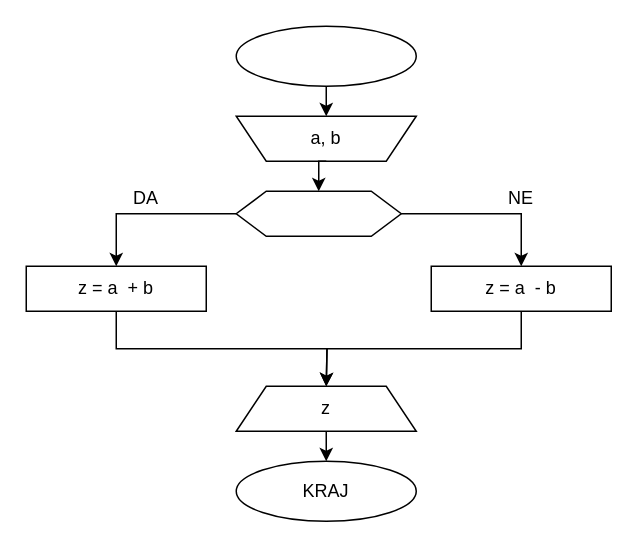
The diagram is 638 pixels wide and 548 high, and some of its shapes have lost their labels. The shapes that lost their labels are listed below. From the top down, each one's centre as x and y in pixels, then its label:
At (325,55): "Pocetak".
At (318,213): "a < b".
